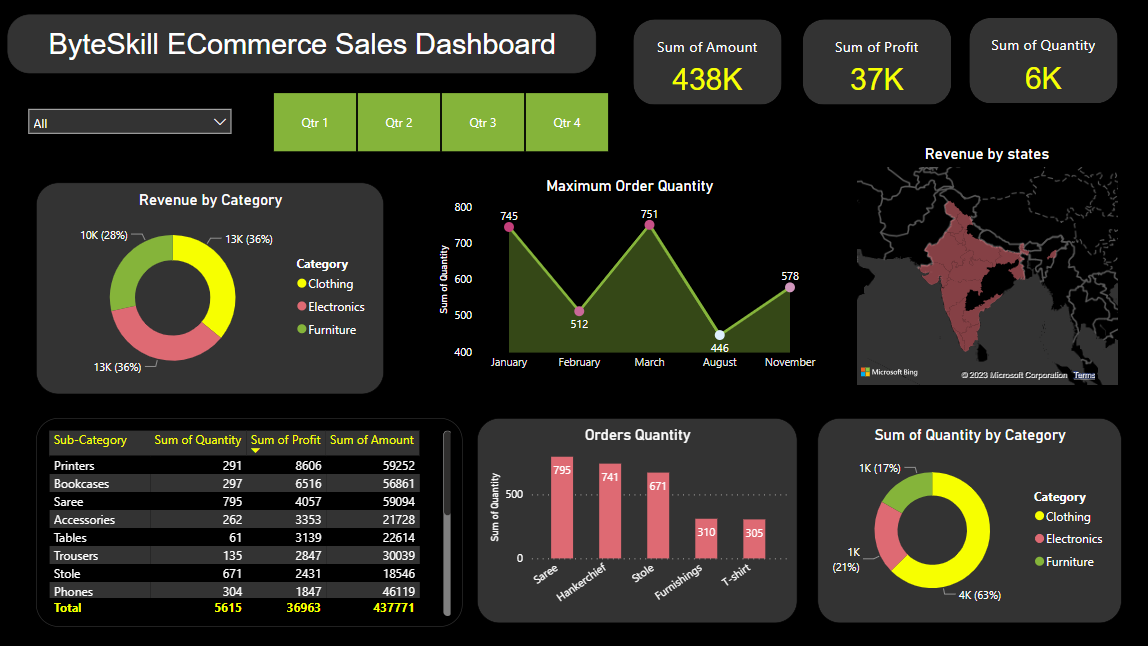

Layout of this report page (visuals, bound fields, positions):
{"tool":"powerbi","page":{"name":"Page 1","canvas":[1280,720],"ordinal":0},"visuals":[{"type":"cardVisual","title":"Total ","fields":{"Data":["Sum(Details.Amount)"]},"box":[701.2,17.5,175,105],"z":0},{"type":"cardVisual","fields":{"Data":["Sum(Details.Profit)"]},"box":[890,17.5,175,105],"z":1000},{"type":"cardVisual","fields":{"Data":["Sum(Details.Quantity)"]},"box":[1075,16.7,175,105],"z":2000},{"type":"areaChart","title":"Maximum Order Quantity","fields":{"Category":["Orders.Order Date.Variation.Date Hierarchy.Month"],"Y":["Sum(Details.Quantity)"]},"box":[476.7,190,451.7,240],"z":3000},{"type":"filledMap","title":"Revenue by states","fields":{"Category":["Orders.State"]},"box":[950,163.3,300,271.7],"z":4000},{"type":"tableEx","fields":{"Values":["Details.Sub-Category","Sum(Details.Quantity)","Sum(Details.Profit)","Sum(Details.Amount)"]},"box":[44,466,474,232],"z":5000},{"type":"donutChart","title":"Revenue by Category","fields":{"Y":["Sum(Details.Profit)"],"Category":["Details.Category"]},"box":[43.3,205,386.7,235],"z":6000},{"type":"donutChart","fields":{"Y":["Sum(Details.Quantity)"],"Category":["Details.Category"]},"box":[912,466,338,228],"z":7000},{"type":"columnChart","title":"Orders Quantity","fields":{"Y":["Sum(Details.Quantity)"],"Category":["Details.Sub-Category"]},"box":[534,466,356,228],"z":8000},{"type":"textbox","box":[11.2,17.5,653.8,65],"z":9000},{"type":"slicer","fields":{"Values":["Orders.Order Date.Variation.Date Hierarchy.Quarter"]},"box":[281.2,97.5,421.2,78.8],"z":10000},{"type":"slicer","fields":{"Values":["Orders.State"]},"box":[25,112.5,245,51.2],"z":11000}]}

Visuals, with their boxes in screenshot pixels (x1, y1, x2, y2), scaled from the page's 1280x720 canvas onto the 1148x646 screenshot:
"Total " cardVisual: bbox=(629, 16, 786, 110)
cardVisual - Sum(Details.Profit): bbox=(798, 16, 955, 110)
cardVisual - Sum(Details.Quantity): bbox=(964, 15, 1121, 109)
"Maximum Order Quantity" areaChart: bbox=(428, 170, 833, 386)
"Revenue by states" filledMap: bbox=(852, 147, 1121, 390)
tableEx - Details.Sub-Category x Sum(Details.Quantity): bbox=(39, 418, 465, 626)
"Revenue by Category" donutChart: bbox=(39, 184, 386, 395)
donutChart - Sum(Details.Quantity) x Details.Category: bbox=(818, 418, 1121, 623)
"Orders Quantity" columnChart: bbox=(479, 418, 798, 623)
textbox: bbox=(10, 16, 596, 74)
slicer - Orders.Order Date.Variation.Date Hierarchy.Quarter: bbox=(252, 87, 630, 158)
slicer - Orders.State: bbox=(22, 101, 242, 147)
